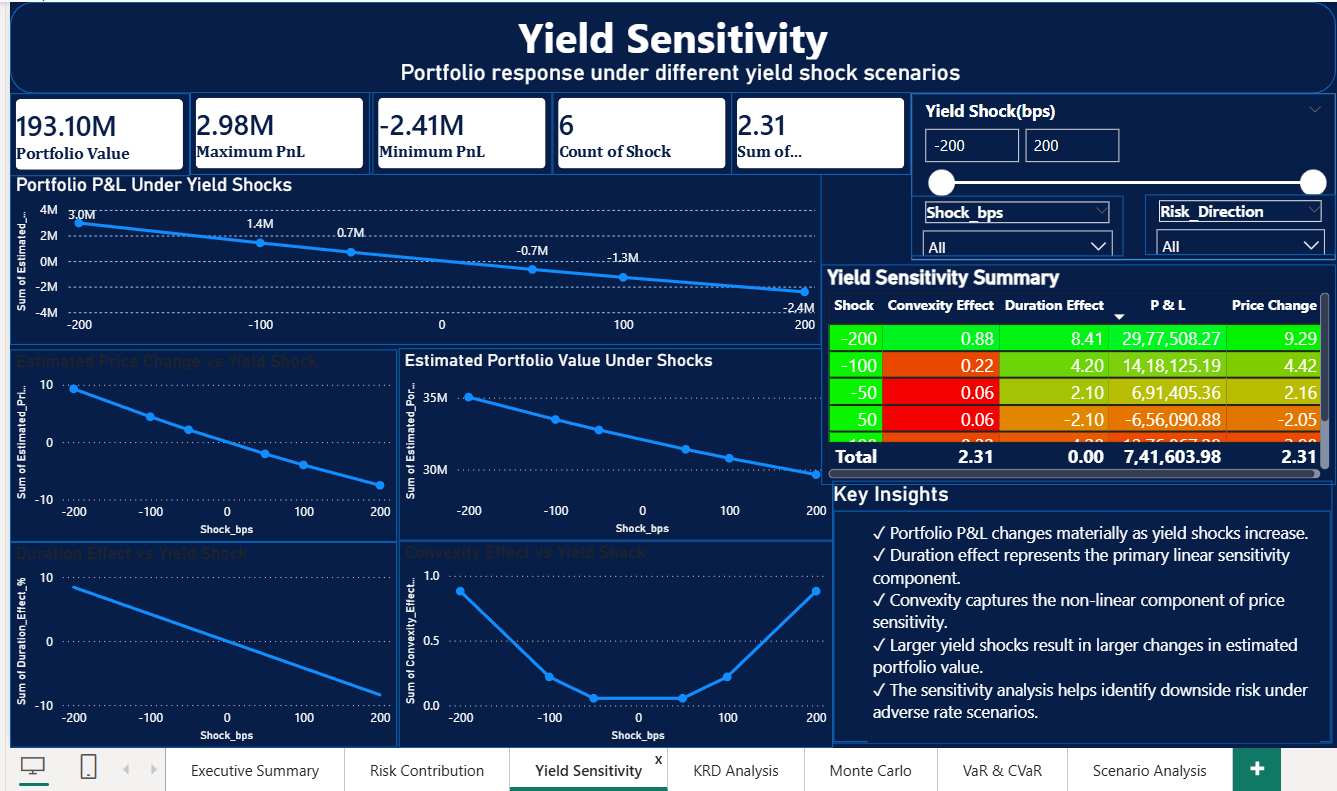

The dashboard page shown, as its layout file describes it:
{"tool":"powerbi","page":{"name":"Yield Sensitivity","canvas":[1280,720],"ordinal":2},"visuals":[{"type":"lineChart","title":"Portfolio P&L Under Yield Shocks","fields":{"Category":["Yield Sensitivity.Shock_bps"],"Y":["Sum(Yield Sensitivity.Estimated_PnL_INR)"]},"box":[0,165.5,783.3,165.5],"z":0},{"type":"lineChart","title":"Duration Effect vs Yield Shock","fields":{"Category":["Yield Sensitivity.Shock_bps"],"Y":["Sum(Yield Sensitivity.Duration_Effect_%)"]},"box":[0,521.7,373.5,198.6],"z":1000},{"type":"cardVisual","fields":{"Data":["Sum(Scenario Summary.Estimated_Portfolio_Value)"]},"box":[0,88.3,173.4,80.4],"z":2000},{"type":"lineChart","title":"Convexity Effect vs Yield Shock","fields":{"Category":["Yield Sensitivity.Shock_bps"],"Y":["Sum(Yield Sensitivity.Convexity_Effect_%)"]},"box":[375.1,520.1,419.2,200.2],"z":3000},{"type":"shape","box":[0,0,1279.7,88.3],"z":4000},{"type":"textbox","title":"Portfolio response under different yield shock scenarios","box":[143.4,55.2,1007.1,31.5],"z":5000},{"type":"lineChart","title":"Estimated Portfolio Value Under Shocks","fields":{"Category":["Yield Sensitivity.Shock_bps"],"Y":["Sum(Yield Sensitivity.Estimated_Portfolio_Value)"]},"box":[375.1,334.1,419.2,186],"z":6000},{"type":"lineChart","title":"Estimated Price Change vs Yield Shock","fields":{"Category":["Yield Sensitivity.Shock_bps"],"Y":["Sum(Yield Sensitivity.Estimated_Price_Change_%)"]},"box":[0,335.7,373.5,186],"z":7000},{"type":"tableEx","title":"Yield Sensitivity Summary","fields":{"Values":["Yield Sensitivity.Shock_bps","Sum(Yield Sensitivity.Convexity_Effect_%)","Sum(Yield Sensitivity.Duration_Effect_%)","Sum(Yield Sensitivity.Estimated_PnL_INR)","Sum(Yield Sensitivity.Estimated_Price_Change_%)"]},"box":[783.3,253.7,496.4,212.8],"z":8000},{"type":"shape","title":"      Key Insights","box":[794.3,461.8,482.3,253.7],"z":9000},{"type":"textbox","box":[827.4,496.4,436.5,219.1],"z":10000},{"type":"slicer","fields":{"Values":["Yield Sensitivity.Shock_bps"]},"box":[869.9,88.3,409.8,160.8],"z":11000},{"type":"slicer","fields":{"Values":["Scenario Summary.Risk_Direction"]},"box":[1095.3,186,184.4,58.3],"z":12000},{"type":"slicer","fields":{"Values":["Scenario Summary.Shock_bps"]},"box":[869.9,187.5,204.9,58.3],"z":13000},{"type":"cardVisual","fields":{"Data":["Portfolio Summary.Maximum PnL"]},"box":[173.4,86.7,173.4,80.4],"z":14000},{"type":"cardVisual","fields":{"Data":["Sum(Yield Sensitivity.Shock)"]},"box":[523.2,86.7,173.4,80.4],"z":15000},{"type":"cardVisual","fields":{"Data":["Portfolio Summary.Minimum PnL"]},"box":[349.9,86.7,173.4,80.4],"z":16000},{"type":"cardVisual","fields":{"Data":["Sum(Yield Sensitivity.Estimated_Price_Change_%)"]},"box":[696.6,86.7,173.4,80.4],"z":17000}]}

Visuals, with their boxes on the page's 1280x720 design canvas (x1, y1, x2, y2). These are canvas units, not pixel positions in the 1337x791 screenshot, which may show the page scaled, cropped or inside an application window:
"Portfolio P&L Under Yield Shocks" lineChart: locate(0, 166, 783, 331)
"Duration Effect vs Yield Shock" lineChart: locate(0, 522, 374, 720)
cardVisual - Sum(Scenario Summary.Estimated_Portfolio_Value): locate(0, 88, 173, 169)
"Convexity Effect vs Yield Shock" lineChart: locate(375, 520, 794, 720)
shape: locate(0, 0, 1280, 88)
"Portfolio response under different yield shock scenarios" textbox: locate(143, 55, 1150, 87)
"Estimated Portfolio Value Under Shocks" lineChart: locate(375, 334, 794, 520)
"Estimated Price Change vs Yield Shock" lineChart: locate(0, 336, 374, 522)
"Yield Sensitivity Summary" tableEx: locate(783, 254, 1280, 466)
"      Key Insights" shape: locate(794, 462, 1277, 716)
textbox: locate(827, 496, 1264, 716)
slicer - Yield Sensitivity.Shock_bps: locate(870, 88, 1280, 249)
slicer - Scenario Summary.Risk_Direction: locate(1095, 186, 1280, 244)
slicer - Scenario Summary.Shock_bps: locate(870, 188, 1075, 246)
cardVisual - Portfolio Summary.Maximum PnL: locate(173, 87, 347, 167)
cardVisual - Sum(Yield Sensitivity.Shock): locate(523, 87, 697, 167)
cardVisual - Portfolio Summary.Minimum PnL: locate(350, 87, 523, 167)
cardVisual - Sum(Yield Sensitivity.Estimated_Price_Change_%): locate(697, 87, 870, 167)
